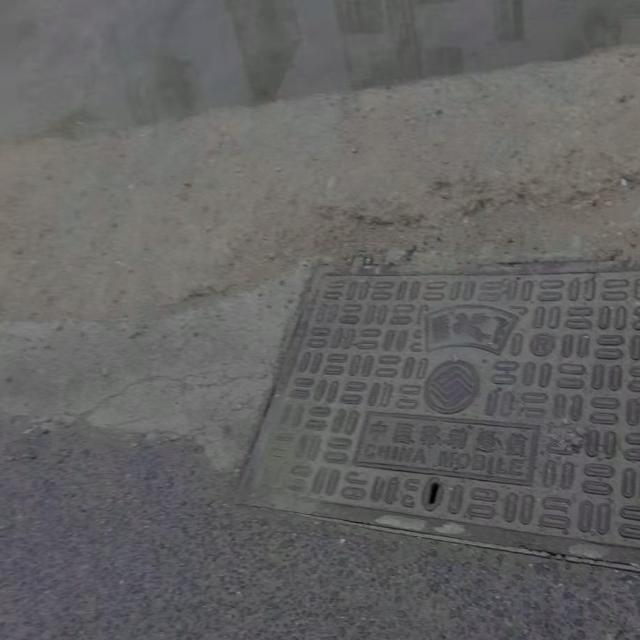good: (238, 258, 640, 587)
